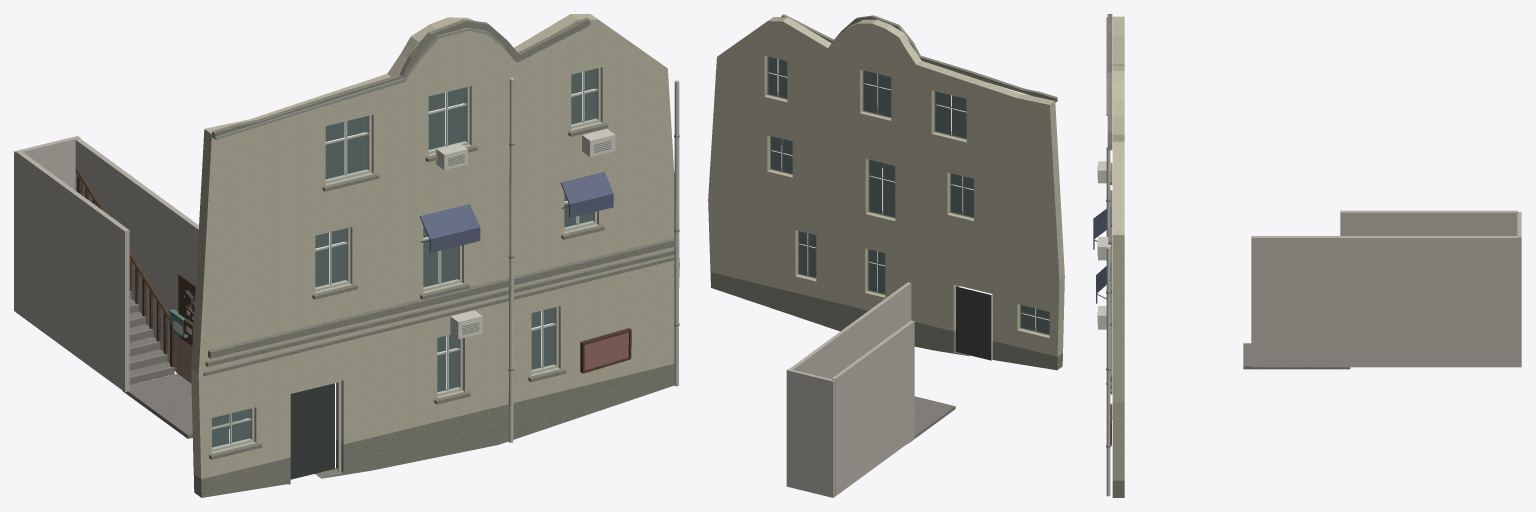
Rendered from full-source.glb.
3 renders of one model, left to right at view 1: azimuth 30°, elevation 25°; view 2: azimuth 150°, elevation 25°; view 3: azimuth 270°, elevation 25°, orthographic. The views are drawn at different scales.
Visible parts, largest first — view 1: 愚园路1112弄20号北栋巷面与室内石阶; view 2: 愚园路1112弄20号北栋巷面与室内石阶; view 3: 愚园路1112弄20号北栋巷面与室内石阶.
Part boxes in pixels (x1,y1,x2,y2): 愚园路1112弄20号北栋巷面与室内石阶: (14, 14, 679, 497); 愚园路1112弄20号北栋巷面与室内石阶: (708, 14, 1064, 497); 愚园路1112弄20号北栋巷面与室内石阶: (1093, 14, 1521, 497).
Bounding box in the file's own units: 11.43 × 9.86 × 10.81.
15 materials, 4 textured.
